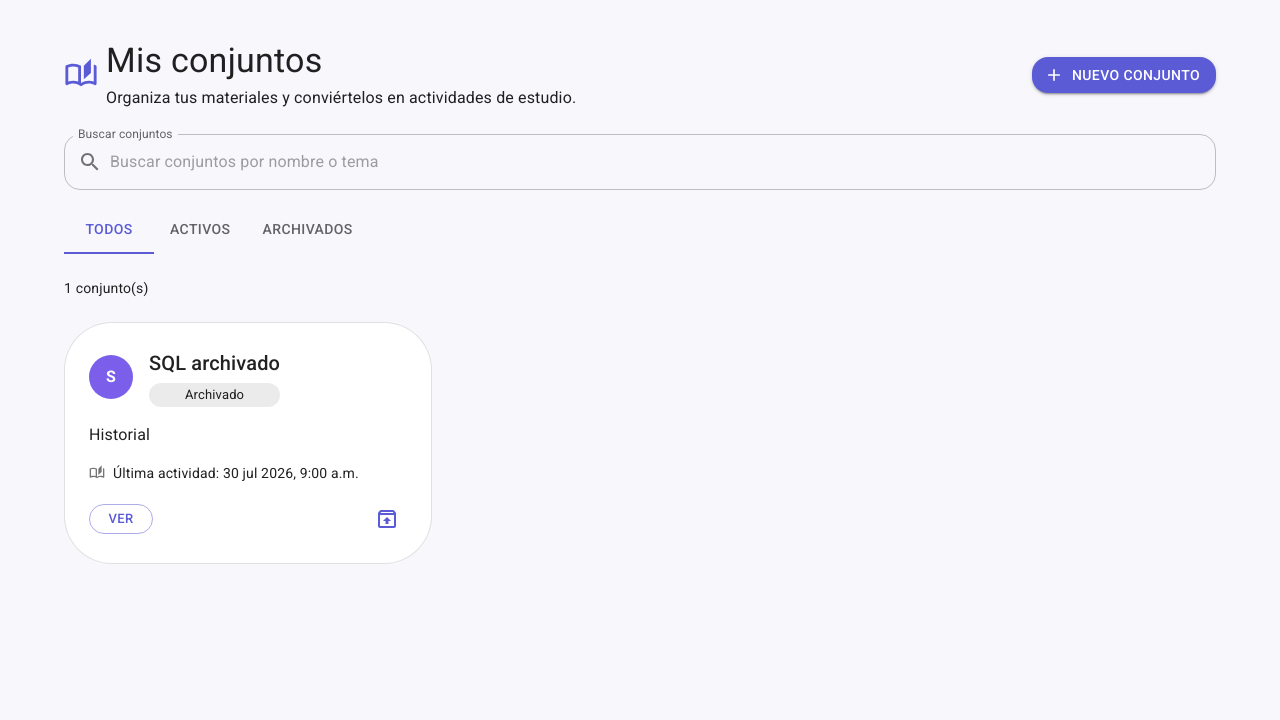
Test case: DecksPage › unarchives a deck and refreshes the list
This screenshot has width=1280, height=720.
expect the heading "SQL archivado" is shown: met, box [149, 347, 280, 379]
Click the button named "Desarchivar SQL archivado": (387, 519) [367, 499, 407, 539]
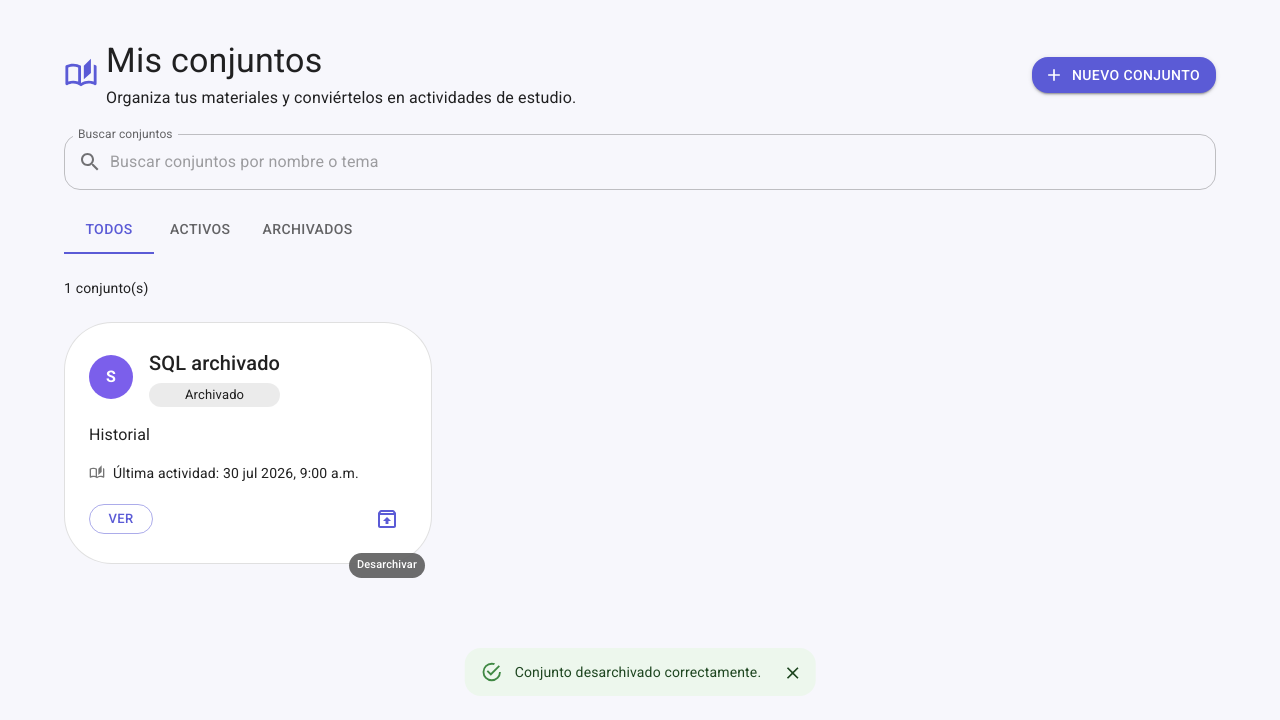
expect the text "Conjunto desarchivado correctamente." is shown: met, box [515, 664, 761, 680]
